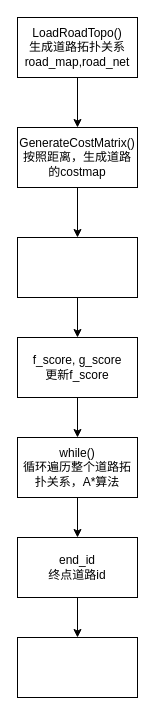
The diagram is 155 pixels wide and 715 high, and some of its shapes have lost their labels. Each missing label, with the box of its shape:
route 得到起点到终点的道路列表: (16, 636, 138, 698)
start_id 起点道路id: (16, 236, 138, 298)
